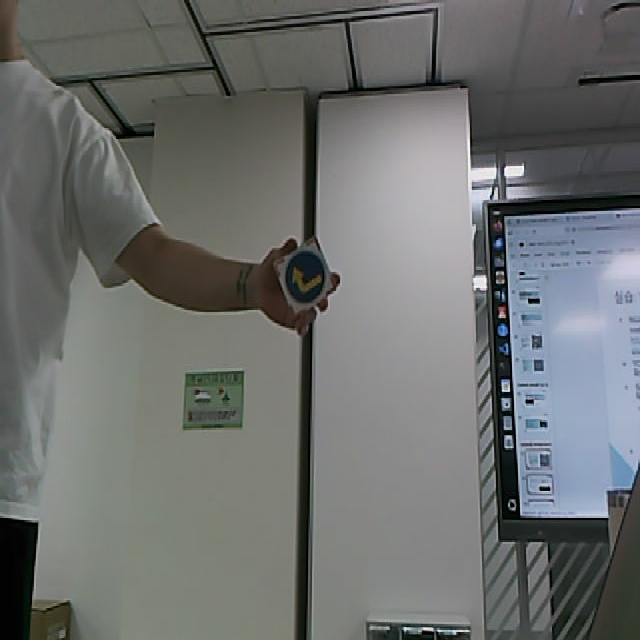right: (274, 235, 337, 314)
